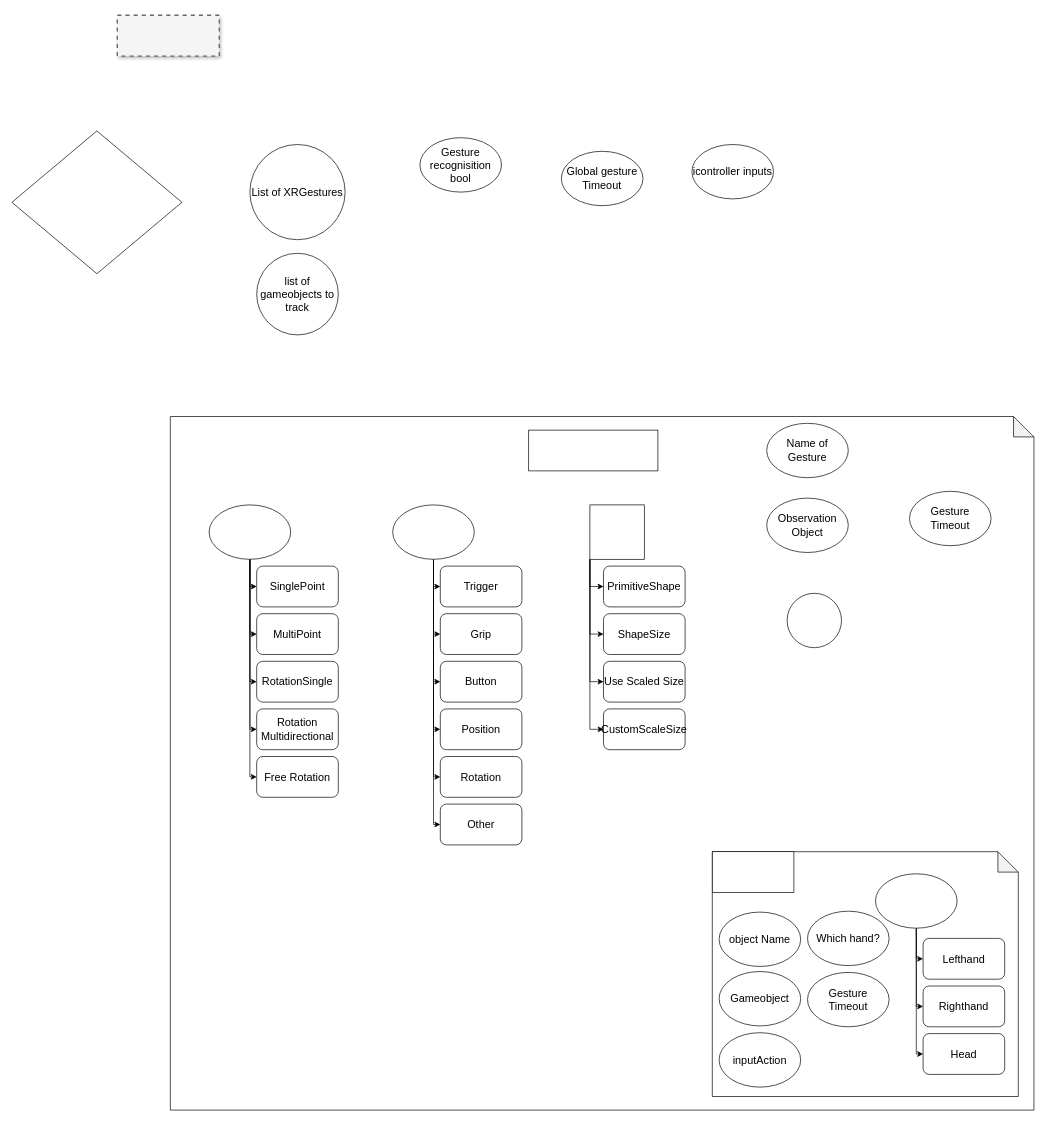
Some shapes in this 1046 by 1122 pixel diagram are drawn without their labels. The shapes that lost their labels are listed below. From the top down, each one's centre as x and y in pixels, then its label:
[169,36]: XR Gesture Controller
[96,202]: Activation BoxCollider
[593,450]: XR Gesture
[249,531]: GestureStyle
[433,531]: InputTriggerType
[616,531]: Detection Shape Settings
[814,620]: Collider List
[753,872]: GestureObject
[916,900]: GestureObject placement
